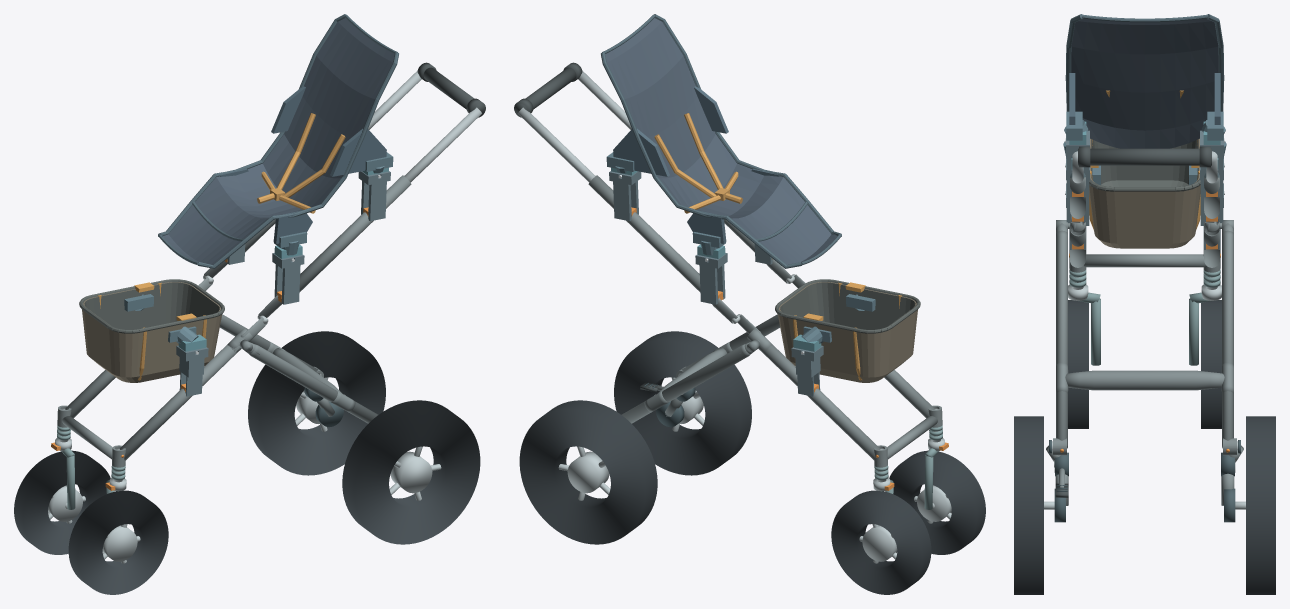
The model's file is D34_w380_state1_wheel_L.glb.
3 views of the same model, side by side, from view 1: azimuth 30°, elevation 25°; view 2: azimuth 150°, elevation 25°; view 3: azimuth 270°, elevation 25° (orthographic). The views are drawn at different scales.
Visible parts, largest first — view 1: D34_Upper, RL_tire.009, RR_tire.009, D34_Lower, FL_tire.009, FR_tire.009, main_lower_-1, main_upper_-1, V46_rear_leg_-1.002, RL_sealed_hub.009, Universal_Cabin_Receiver_M_-1, Universal_Cabin_Receiver_H_-1 (+10 smaller); view 2: D34_Upper, RR_tire.009, RL_tire.009, D34_Lower, FR_tire.009, FL_tire.009, main_lower_1, main_upper_1, V46_rear_leg_1.002, RR_sealed_hub.009, Universal_Cabin_Receiver_M_1, Universal_Cabin_Receiver_H_1 (+10 smaller); view 3: D34_Upper, D34_Lower, RL_tire.009, RR_tire.009, V46_rearbar.002, FL_tire.009, FR_tire.009, V46_rear_leg_1.002, V46_rear_leg_-1.002, round_handle.010, front_fixed_round_tube, D34_Upper_Mount_H (+9 smaller).
Part boxes in pixels (left/top/right/bottom): D34_Upper: left=158, top=14, right=398, bottom=268; RL_tire.009: left=342, top=400, right=480, bottom=544; RR_tire.009: left=248, top=331, right=385, bottom=475; D34_Lower: left=79, top=279, right=224, bottom=382; FL_tire.009: left=68, top=490, right=168, bottom=594; FR_tire.009: left=14, top=450, right=110, bottom=554; main_lower_-1: left=120, top=344, right=240, bottom=460; main_upper_-1: left=299, top=175, right=411, bottom=291; V46_rear_leg_-1.002: left=249, top=344, right=378, bottom=423; RL_sealed_hub.009: left=390, top=451, right=432, bottom=493; Universal_Cabin_Receiver_M_-1: left=272, top=253, right=304, bottom=304; Universal_Cabin_Receiver_H_-1: left=358, top=171, right=390, bottom=221; D34_Upper: left=601, top=14, right=841, bottom=268; RR_tire.009: left=519, top=400, right=657, bottom=544; RL_tire.009: left=614, top=331, right=751, bottom=475; D34_Lower: left=775, top=279, right=920, bottom=382; FR_tire.009: left=831, top=490, right=931, bottom=594; FL_tire.009: left=889, top=450, right=985, bottom=554; main_lower_1: left=759, top=344, right=879, bottom=460; main_upper_1: left=588, top=175, right=700, bottom=291; V46_rear_leg_1.002: left=621, top=344, right=750, bottom=423; RR_sealed_hub.009: left=567, top=451, right=609, bottom=493; Universal_Cabin_Receiver_M_1: left=695, top=253, right=727, bottom=304; Universal_Cabin_Receiver_H_1: left=609, top=171, right=641, bottom=221; D34_Upper: left=1065, top=14, right=1224, bottom=148; D34_Lower: left=1089, top=138, right=1200, bottom=248; RL_tire.009: left=1014, top=416, right=1043, bottom=594; RR_tire.009: left=1246, top=416, right=1275, bottom=594; V46_rearbar.002: left=1065, top=370, right=1224, bottom=390; FL_tire.009: left=1068, top=300, right=1088, bottom=428; FR_tire.009: left=1201, top=300, right=1221, bottom=428; V46_rear_leg_1.002: left=1222, top=230, right=1233, bottom=448; V46_rear_leg_-1.002: left=1056, top=230, right=1067, bottom=448; round_handle.010: left=1078, top=148, right=1211, bottom=165; front_fixed_round_tube: left=1084, top=254, right=1205, bottom=267; D34_Upper_Mount_H: left=1064, top=111, right=1225, bottom=144.
Bounding box in the file's own units: 1.18 × 1.28 × 0.5271.
